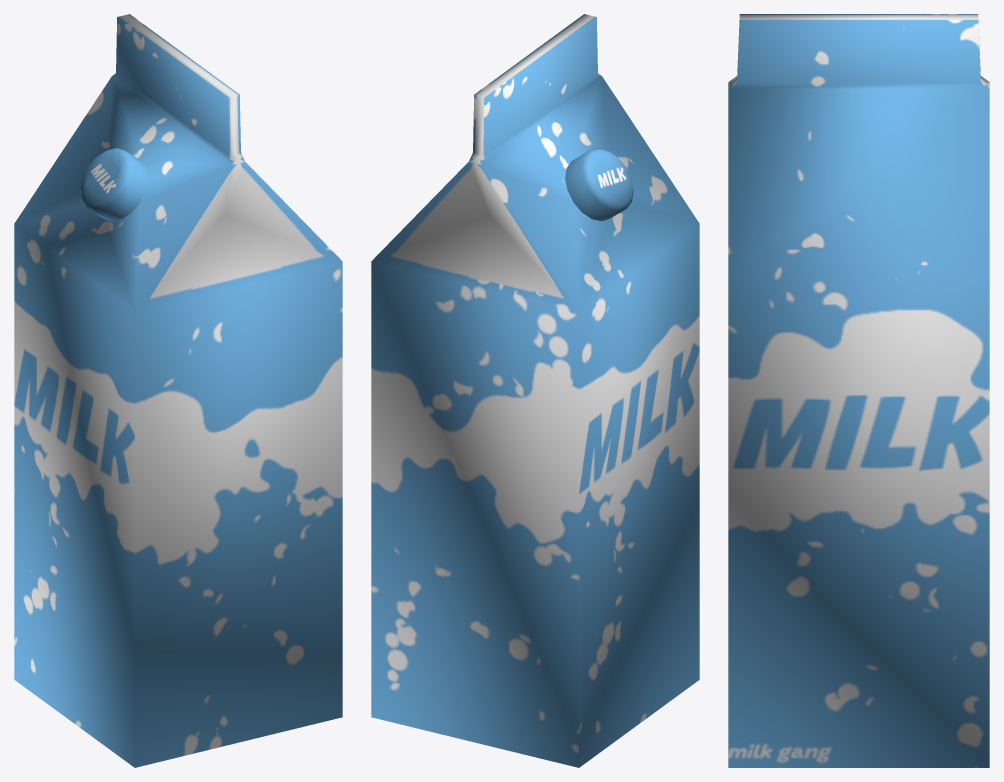
Rendered from milwithtext.glb.
3 renders of one model, left to right at view 1: azimuth 30°, elevation 25°; view 2: azimuth 150°, elevation 25°; view 3: azimuth 270°, elevation 25°, orthographic. The views are drawn at different scales.
Parts seen in each view (by area): view 1: milwithtext, milwithtext.001; view 2: milwithtext, milwithtext.001; view 3: milwithtext.
Boxes of the visible parts, x1=… form: milwithtext: x1=14, y1=14, x2=342, y2=767; milwithtext.001: x1=80, y1=148, x2=148, y2=221; milwithtext: x1=371, y1=14, x2=699, y2=767; milwithtext.001: x1=565, y1=148, x2=633, y2=221; milwithtext: x1=728, y1=14, x2=989, y2=767.
Size of the model in its own units: 0.1732 by 0.5116 by 0.1742.
1 material, 1 textured.
